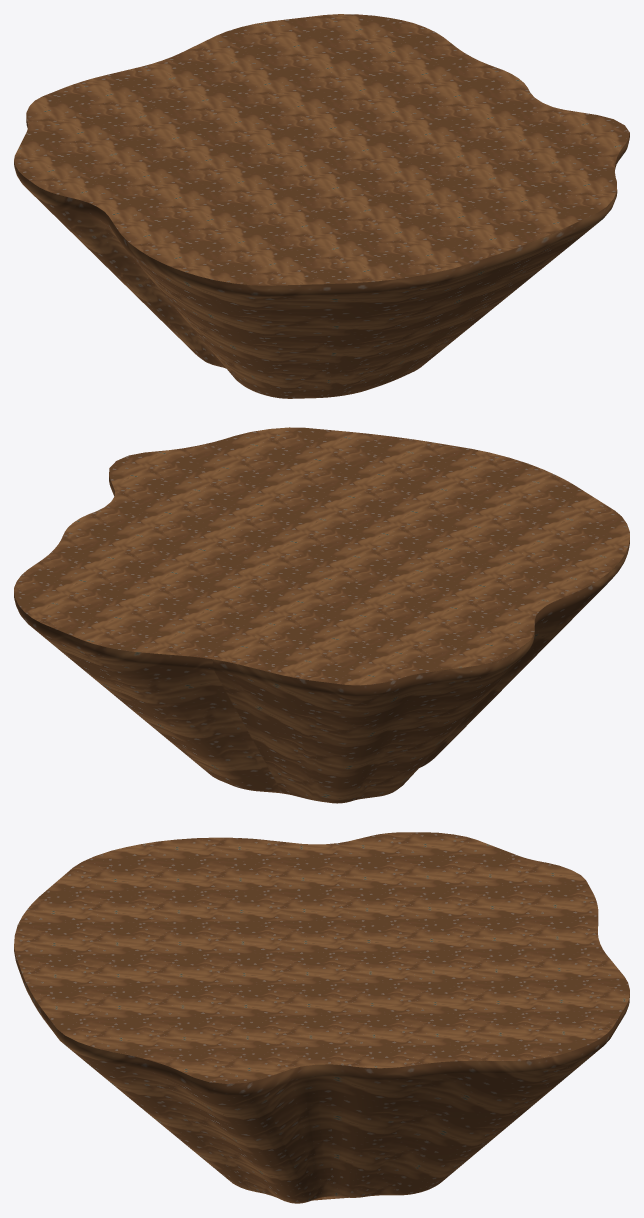
The model's file is Base_Inferior_Texturizado.fbx.
3 views of the same model, one above another, from view 1: azimuth 30°, elevation 25°; view 2: azimuth 150°, elevation 25°; view 3: azimuth 270°, elevation 25° (orthographic). The views are drawn at different scales.
Parts seen in each view (by area): view 1: Base inferior; view 2: Base inferior; view 3: Base inferior.
Boxes of the visible parts, bbox=[...] form: Base inferior: bbox=[14, 14, 629, 398]; Base inferior: bbox=[14, 427, 629, 803]; Base inferior: bbox=[14, 832, 629, 1203].
Size of the model in its own units: 28953 by 11083 by 29945.
Materials: 1 (1 with a texture image).
